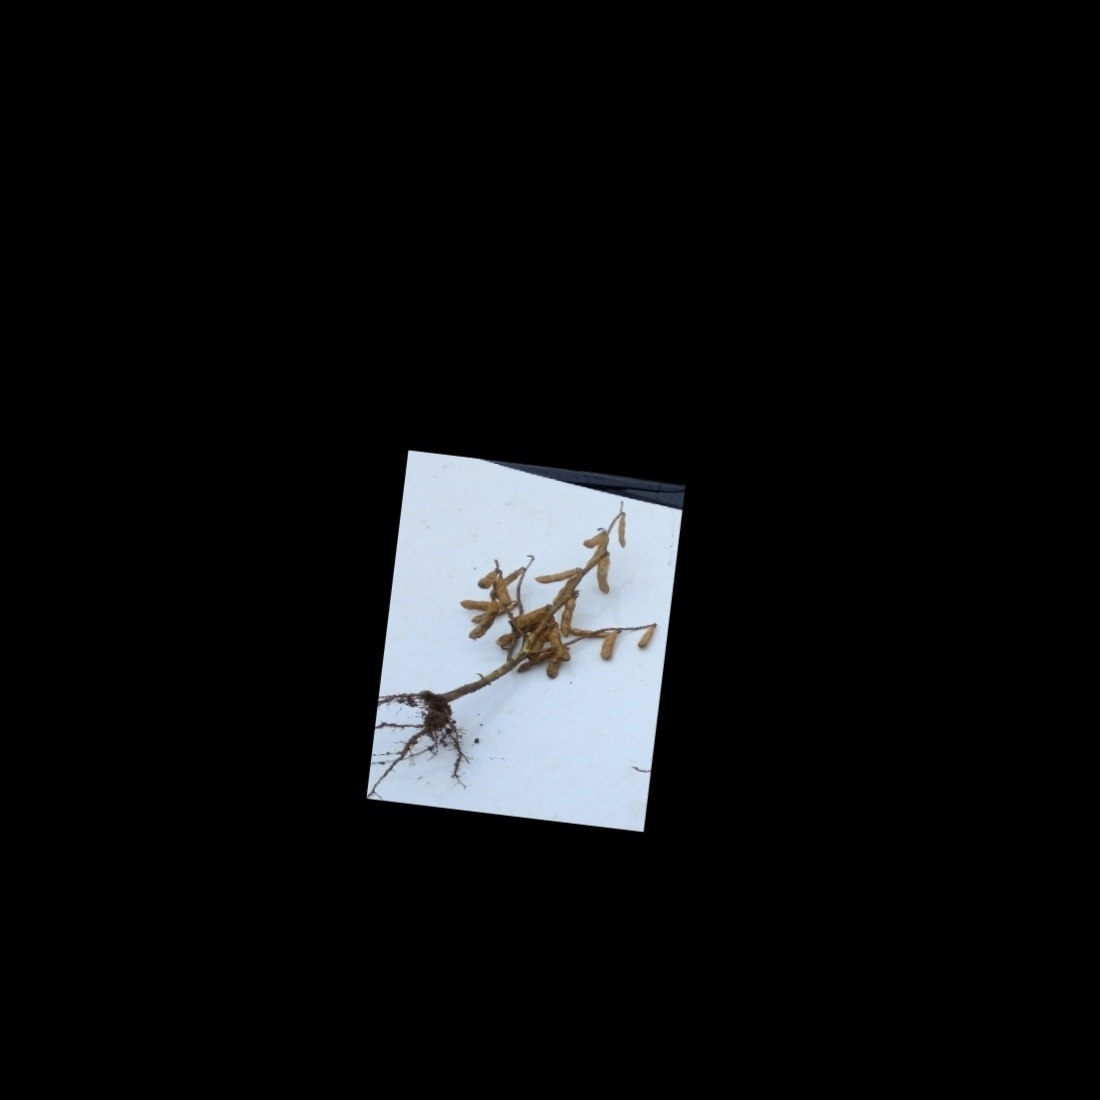pod: (534, 558, 580, 588), (594, 554, 614, 597), (598, 629, 622, 666), (559, 596, 577, 639), (633, 624, 655, 656), (580, 524, 605, 549), (473, 565, 496, 593), (615, 514, 633, 550)
soy: (379, 474, 676, 785)
